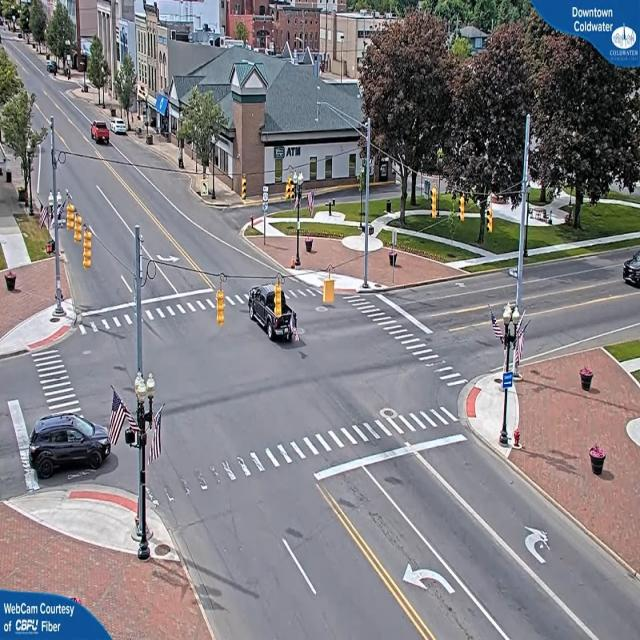car: (30, 411, 114, 478), (248, 284, 298, 345), (623, 248, 640, 289), (90, 121, 110, 145), (111, 120, 129, 137)
